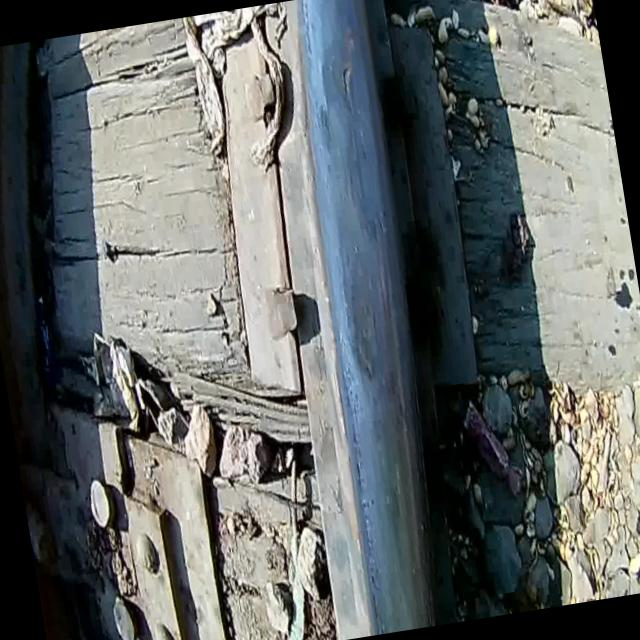Squats: (251, 0, 481, 639)
